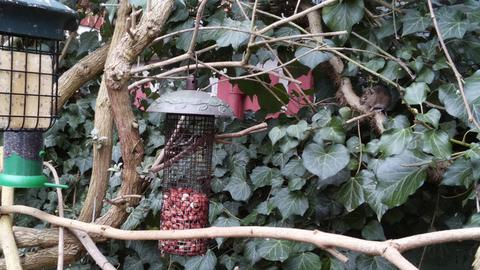mouse: (359, 85, 392, 116)
